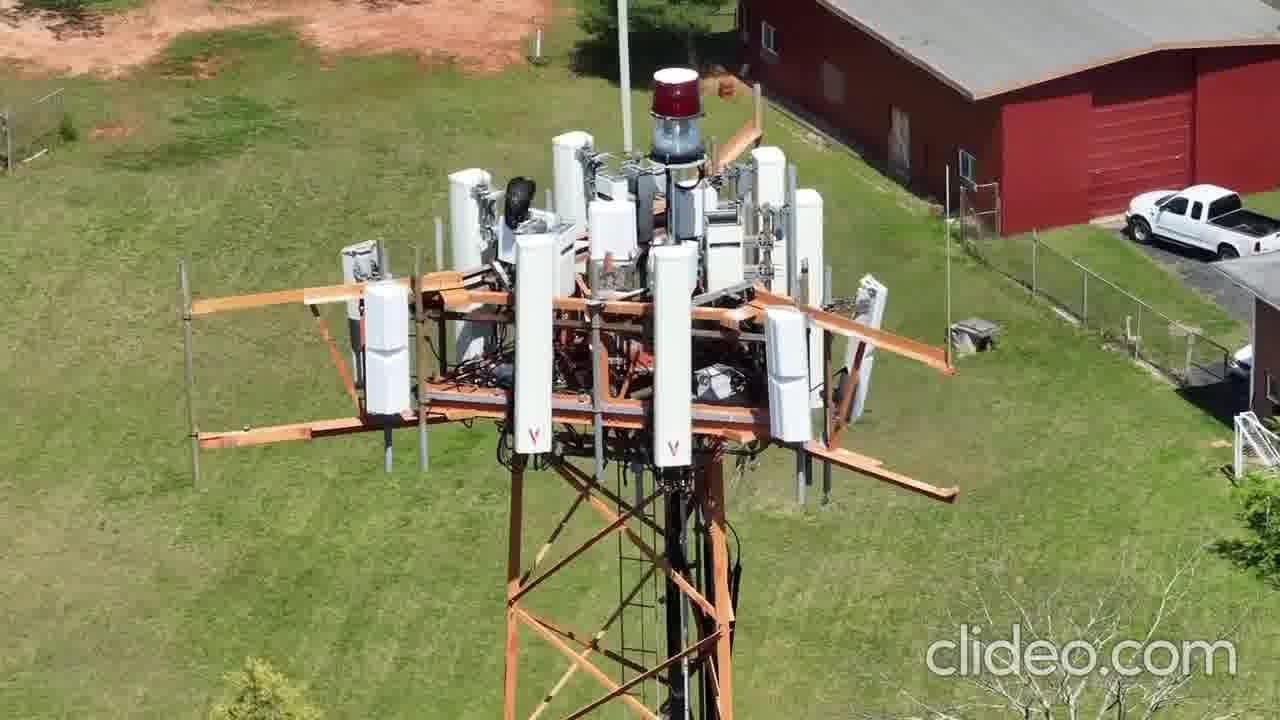antenna: (502, 231, 561, 472), (645, 239, 702, 480), (835, 265, 909, 431), (356, 272, 425, 419), (753, 302, 817, 456), (788, 184, 847, 303), (438, 158, 495, 279), (543, 132, 594, 231), (577, 197, 645, 270), (340, 229, 389, 327), (744, 149, 791, 227)
